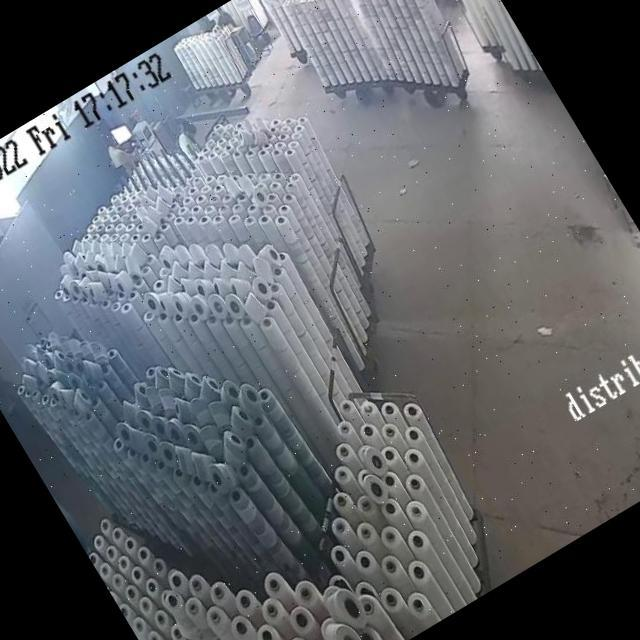person: (102, 127, 146, 176), (167, 112, 207, 158), (211, 2, 240, 34)
